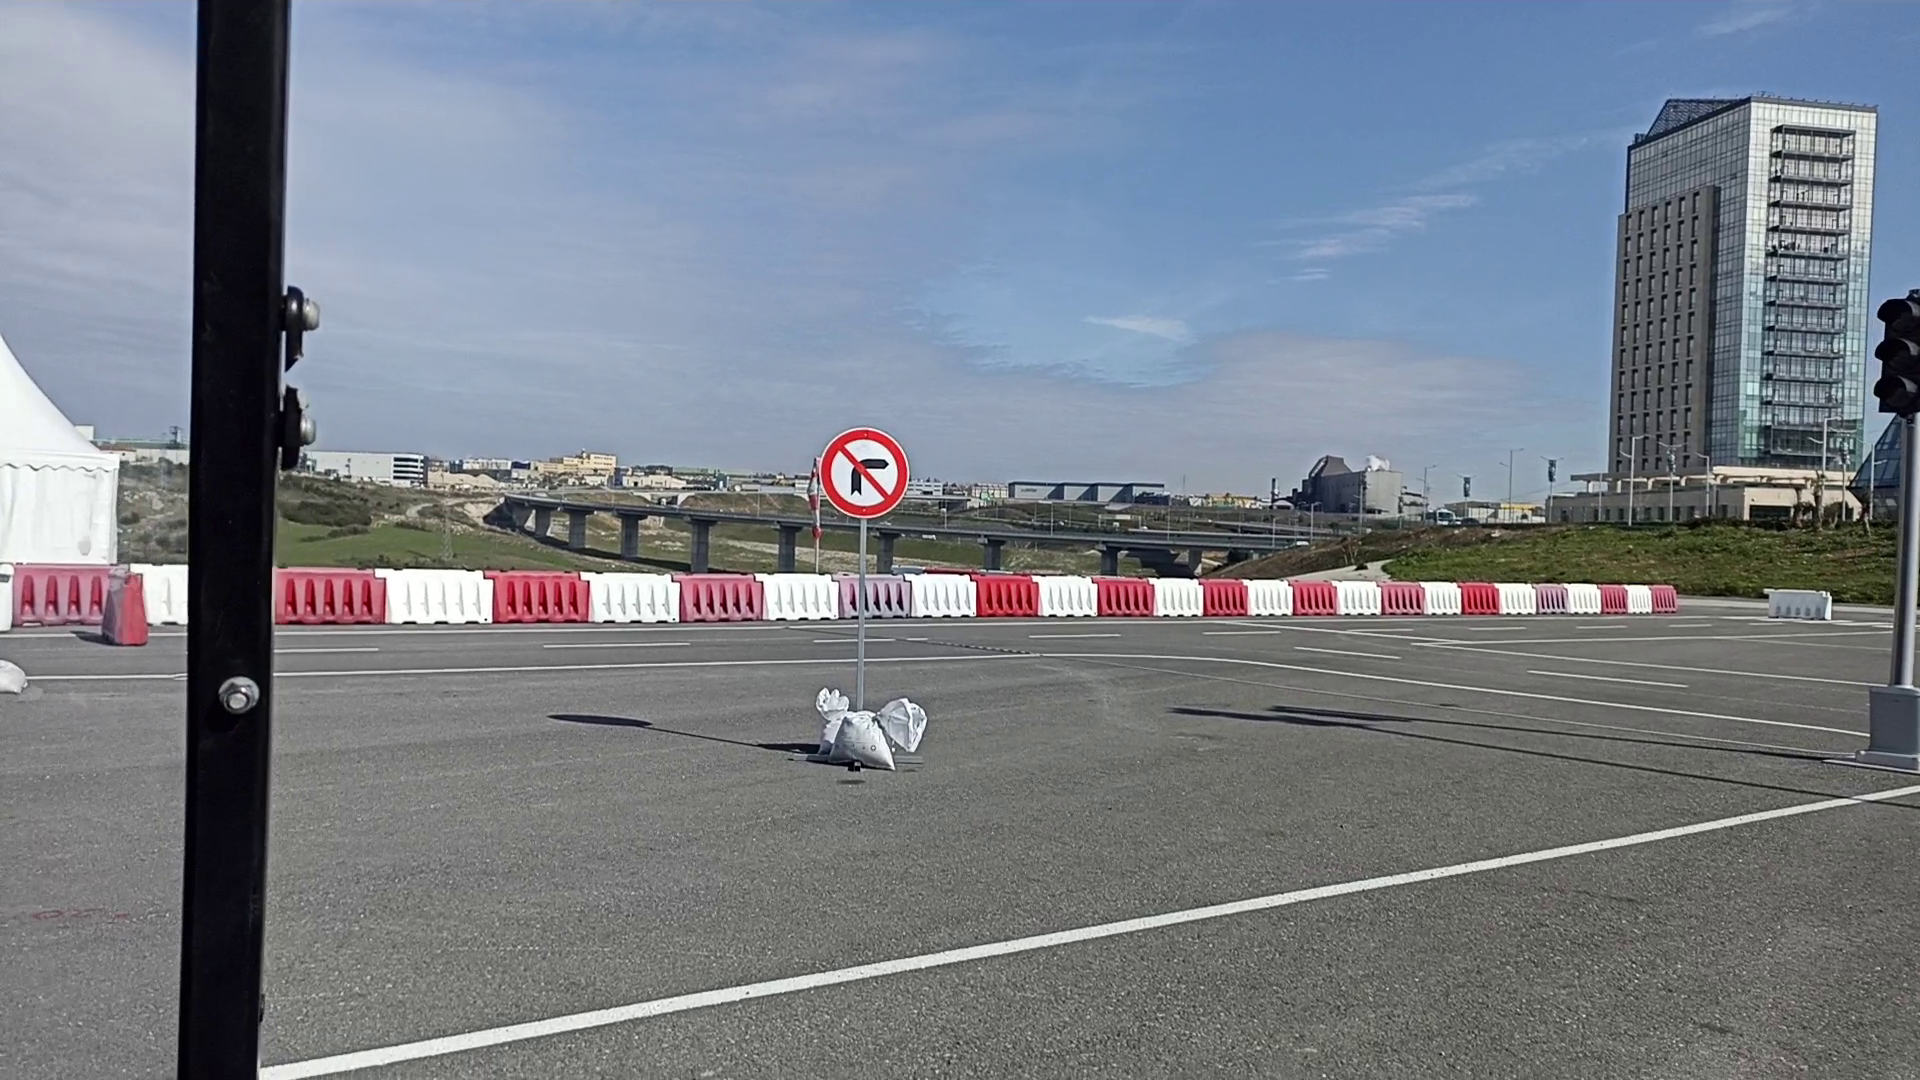noleftturn: (818, 425, 910, 520)
trafficlight: (1870, 286, 1920, 422)
